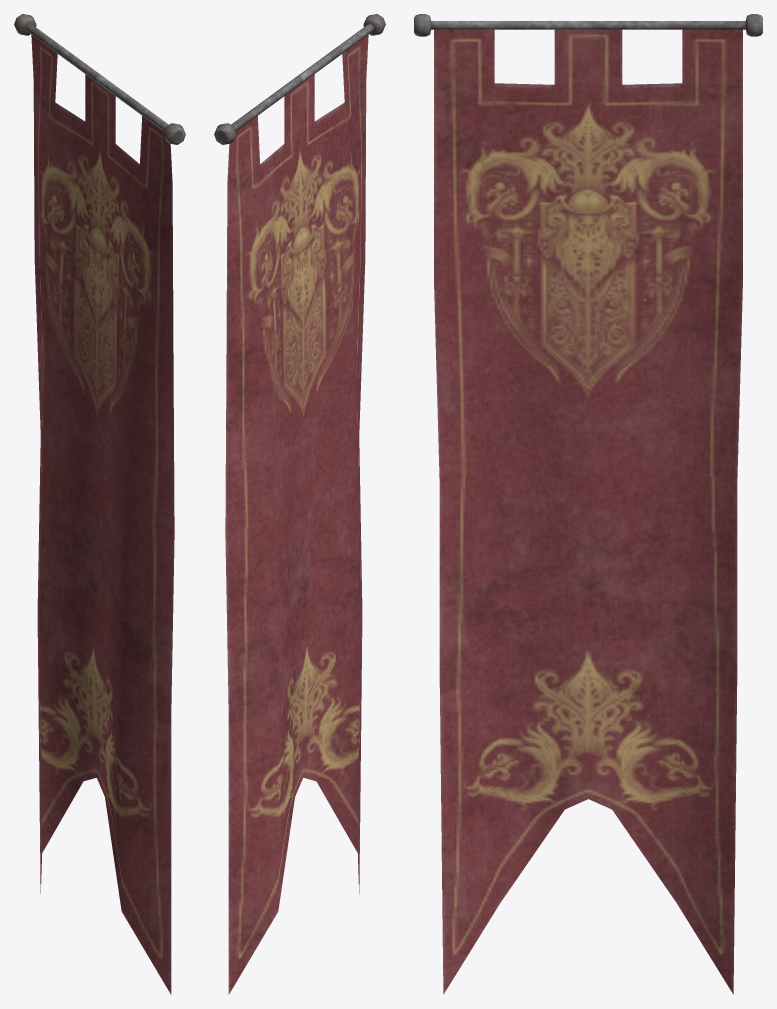
The model's file is SM_Banner_01a.gltf.
3 renders of one model, left to right at view 1: azimuth 30°, elevation 25°; view 2: azimuth 150°, elevation 25°; view 3: azimuth 270°, elevation 25°, orthographic. The views are drawn at different scales.
Parts seen in each view (by area): view 1: SM_Banner_01a; view 2: SM_Banner_01a; view 3: SM_Banner_01a.
Boxes of the visible parts, left/top/right/bottom form: SM_Banner_01a: left=14, top=14, right=185, bottom=994; SM_Banner_01a: left=214, top=14, right=385, bottom=994; SM_Banner_01a: left=414, top=14, right=762, bottom=994.
Size of the model in its own units: 0.3823 by 11.34 by 3.67.
1 material, 1 textured.
